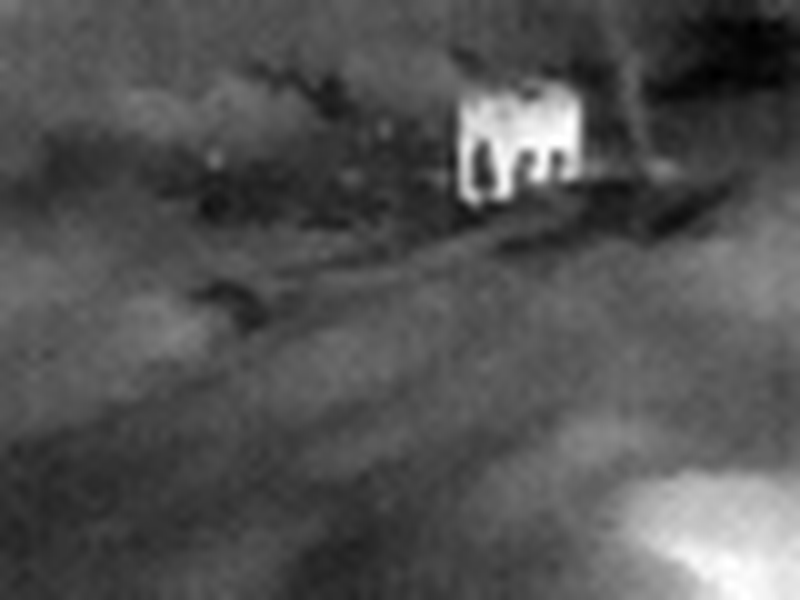elephant: (451, 71, 583, 217)
